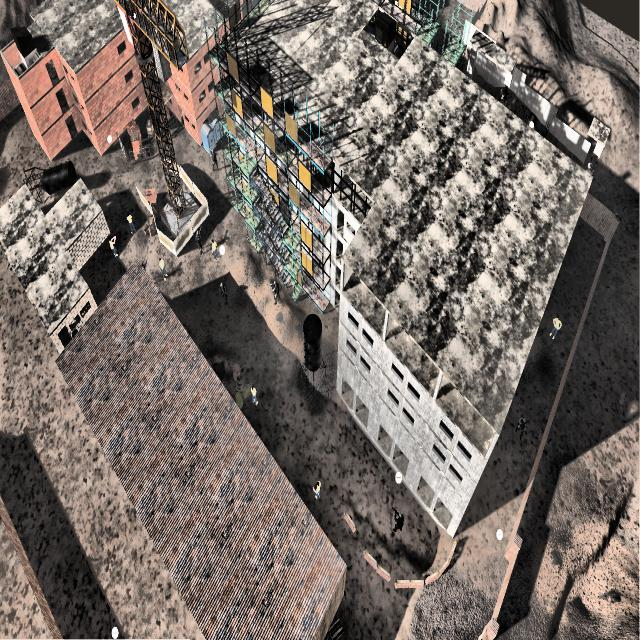bad: (391, 494, 408, 552), (512, 410, 532, 446), (192, 221, 207, 264), (268, 272, 283, 311), (218, 275, 231, 311), (208, 142, 220, 178), (141, 258, 150, 276)
good: (547, 310, 564, 350), (157, 247, 170, 292), (122, 209, 139, 243), (311, 468, 325, 509), (248, 376, 259, 415), (108, 227, 120, 262), (211, 237, 220, 266)
